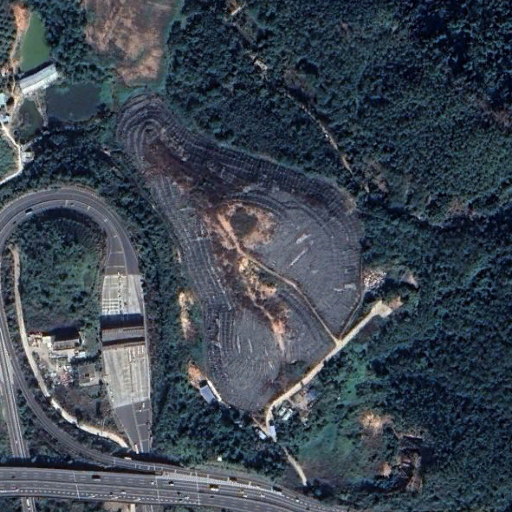lf: (116, 94, 361, 417)
